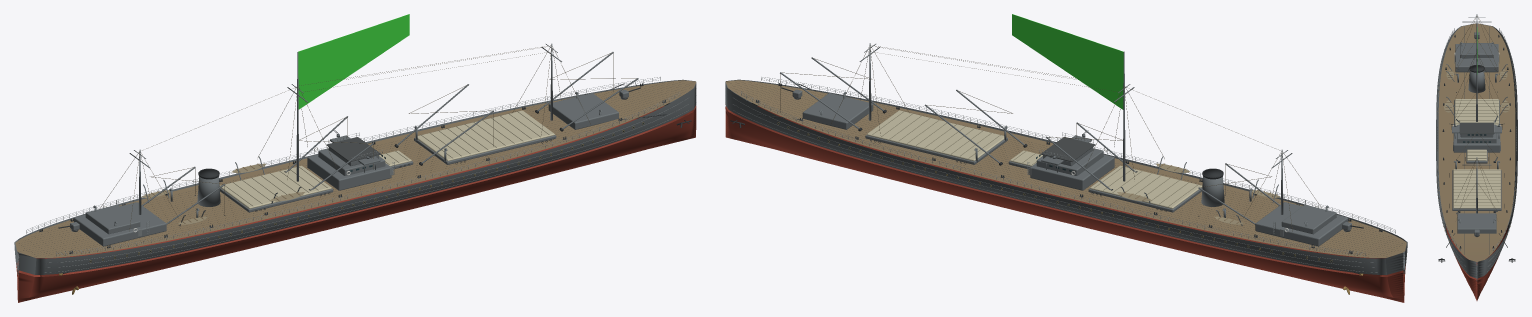
The picture shows the model from 3 angles, left to right: view 1: azimuth 30°, elevation 25°; view 2: azimuth 150°, elevation 25°; view 3: azimuth 270°, elevation 25°; orthographic projection. The views are drawn at different scales.
Visible parts, largest first — view 1: Hull_Main, Main_Deck, Kashino_IDFlag, Forward_Giant_Hatch_Canvas, Aft_Giant_Hatch_Canvas, Aft_Deckhouse, Fore_Deckhouse, Bridge_Lower, Aft_Upper_House, Open_Bridge_Deck, Bridge_Mid, Funnel (+5 smaller); view 2: Hull_Main, Main_Deck, Kashino_IDFlag, Forward_Giant_Hatch_Canvas, Aft_Giant_Hatch_Canvas, Aft_Deckhouse, Fore_Deckhouse, Bridge_Lower, Aft_Upper_House, Open_Bridge_Deck, Bridge_Mid, Funnel (+5 smaller); view 3: Main_Deck, Hull_Main, Forward_Giant_Hatch_Canvas, Aft_Giant_Hatch_Canvas, Fore_Deckhouse, Aft_Deckhouse, Bridge_Lower, Aft_Upper_House, Open_Bridge_Deck, Funnel, Bridge_Mid, Long_Gun_Barrel_Hatch_Canvas (+12 smaller).
Part boxes in pixels (<box>): Hull_Main: <box>14,79,696,302</box>; Main_Deck: <box>15,80,695,257</box>; Kashino_IDFlag: <box>298,14,409,109</box>; Forward_Giant_Hatch_Canvas: <box>417,110,554,161</box>; Aft_Giant_Hatch_Canvas: <box>219,165,331,208</box>; Aft_Deckhouse: <box>74,202,166,246</box>; Fore_Deckhouse: <box>548,93,618,129</box>; Bridge_Lower: <box>307,154,391,190</box>; Aft_Upper_House: <box>85,205,140,234</box>; Open_Bridge_Deck: <box>326,137,381,161</box>; Bridge_Mid: <box>318,148,385,175</box>; Funnel: <box>197,176,220,206</box>; Hull_Main: <box>725,79,1407,302</box>; Main_Deck: <box>725,80,1406,257</box>; Kashino_IDFlag: <box>1012,14,1123,109</box>; Forward_Giant_Hatch_Canvas: <box>867,110,1004,161</box>; Aft_Giant_Hatch_Canvas: <box>1090,165,1202,208</box>; Aft_Deckhouse: <box>1255,202,1348,246</box>; Fore_Deckhouse: <box>802,93,873,129</box>; Bridge_Lower: <box>1030,154,1114,190</box>; Aft_Upper_House: <box>1281,205,1336,234</box>; Open_Bridge_Deck: <box>1040,136,1095,161</box>; Bridge_Mid: <box>1036,148,1103,175</box>; Funnel: <box>1201,176,1224,206</box>; Main_Deck: <box>1438,23,1515,261</box>; Hull_Main: <box>1436,23,1517,300</box>; Forward_Giant_Hatch_Canvas: <box>1453,169,1500,208</box>; Aft_Giant_Hatch_Canvas: <box>1454,99,1499,125</box>; Fore_Deckhouse: <box>1457,213,1496,233</box>; Aft_Deckhouse: <box>1455,44,1498,72</box>; Bridge_Lower: <box>1453,126,1500,152</box>; Aft_Upper_House: <box>1460,43,1493,57</box>; Open_Bridge_Deck: <box>1460,122,1493,134</box>; Funnel: <box>1468,71,1485,92</box>; Bridge_Mid: <box>1457,124,1496,143</box>; Long_Gun_Barrel_Hatch_Canvas: <box>1467,149,1486,160</box>.
Bounding box in the file's own units: 13754 × 3745 × 1962.
